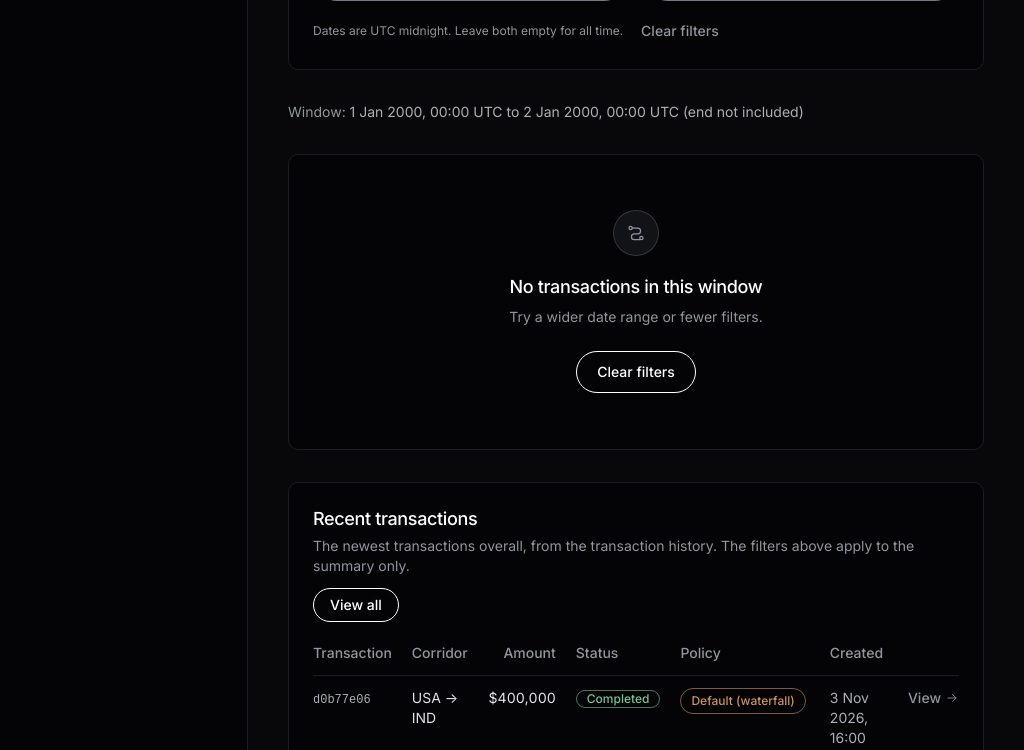
it: Dashboard states › shows an empty window with its window and a way to clear the filters
(page scrolled)
Check: the heading "No transactions in this window" is shown, box [510,275,762,300]
Check: the table "Metrics by policy" is not shown
Click the button "Clear filters" below "Try a wider date range or fewer filters." at (636,372), box [576,352,696,394]
(page scrolled)
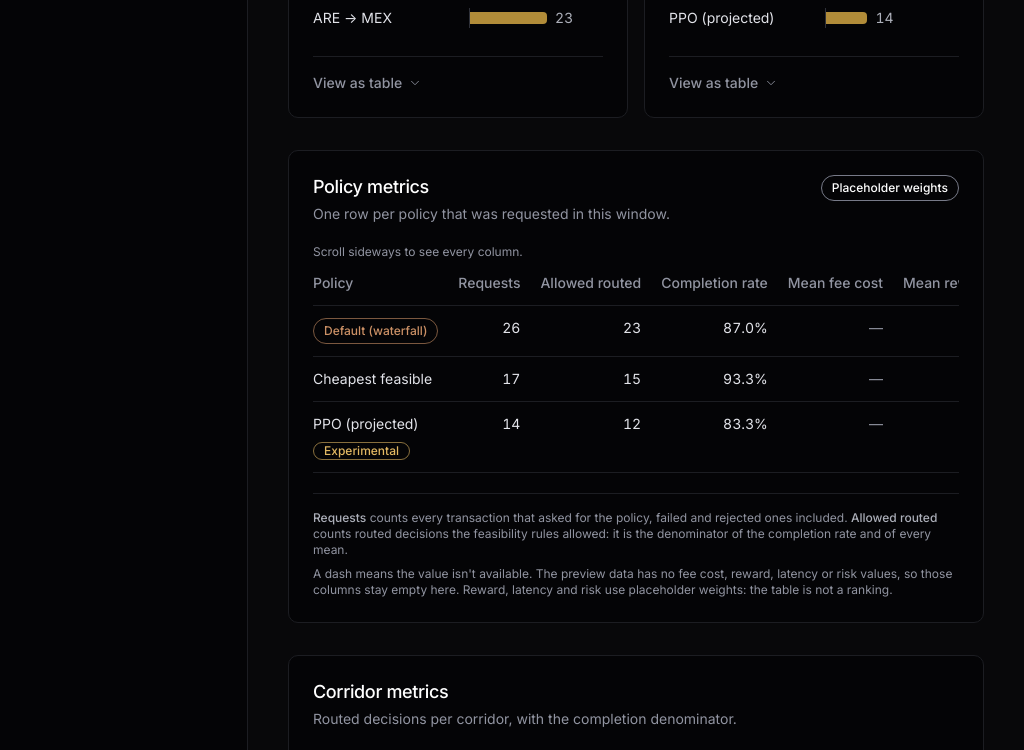
Check: the table named "Metrics by policy" is shown, box [313,272,959,473]
